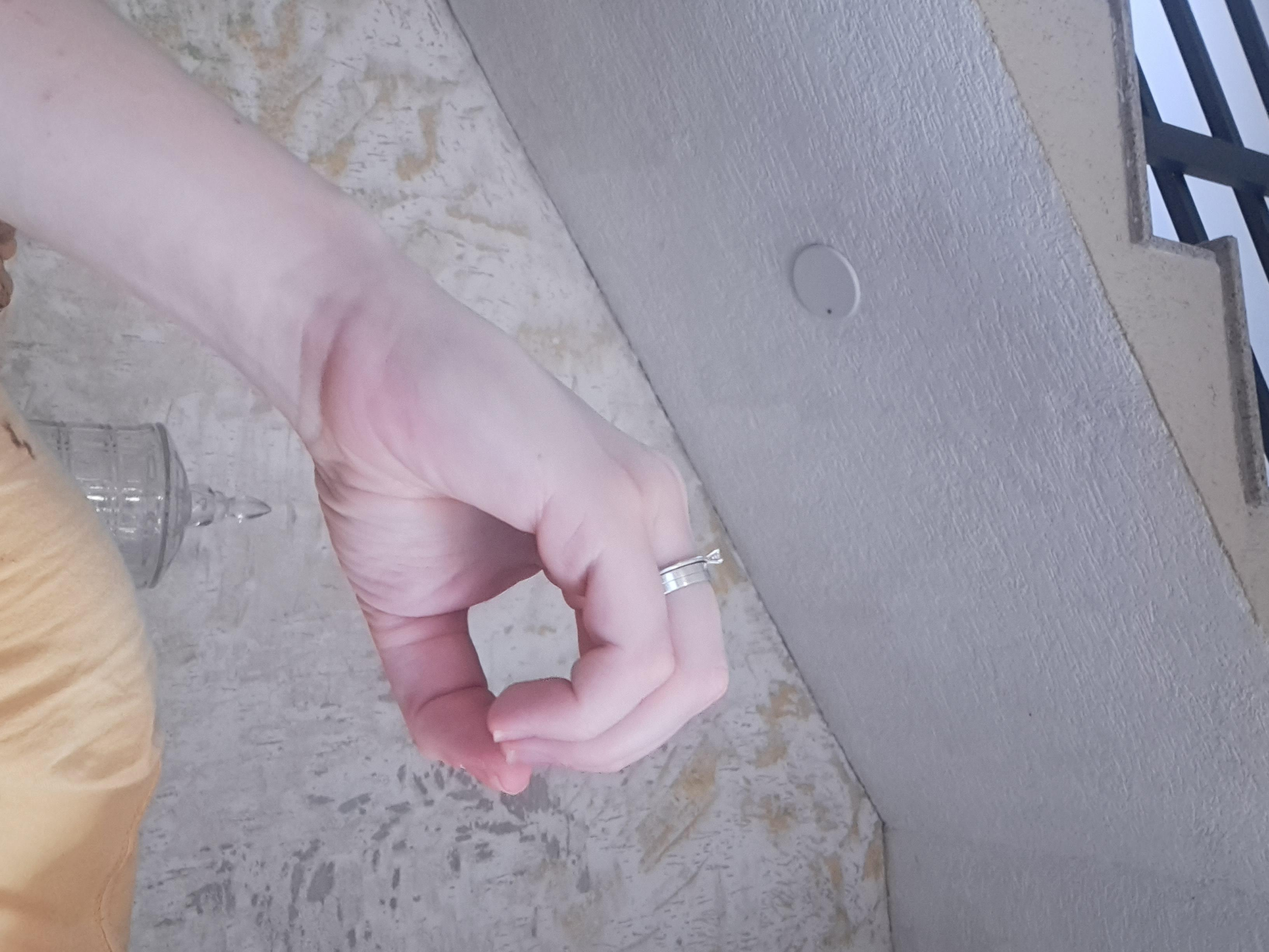O: (378, 394, 1089, 723)
